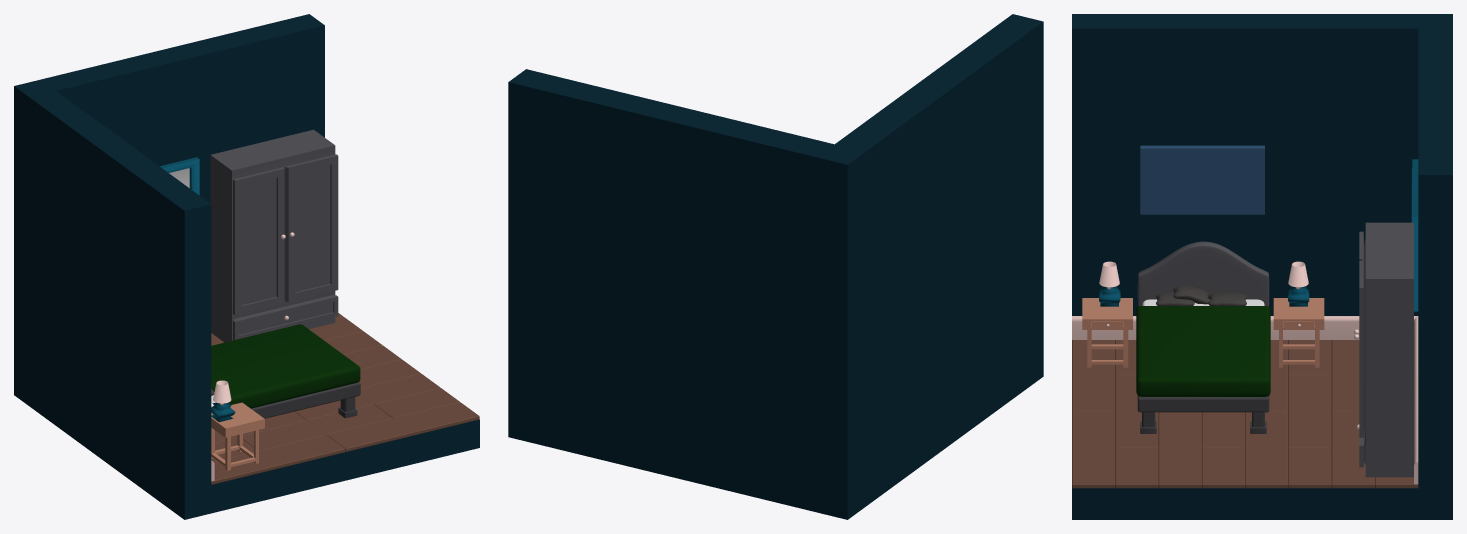
Rendered from Rasmus- Isometric Scene - Comfy and Cozy Bedroom.fbx.
The picture shows the model from 3 angles, left to right: view 1: azimuth 30°, elevation 25°; view 2: azimuth 150°, elevation 25°; view 3: azimuth 270°, elevation 25°; orthographic projection. The views are drawn at different scales.
Parts seen in each view (by area): view 1: Cube, wardrobe, floor, plaket, nightstand 2, bedfrme, window; view 2: Cube; view 3: Cube, floor, wardrobe, plaket, board, bedfame headboard, floor trim, nightstand 2, nightstand, bedfrme, window, bedfame legs (+4 smaller).
Boxes of the visible parts, left/top/right/bottom form: Cube: left=14, top=14, right=479, bottom=519; wardrobe: left=210, top=129, right=338, bottom=342; floor: left=211, top=313, right=479, bottom=484; plaket: left=211, top=324, right=360, bottom=408; nightstand 2: left=211, top=402, right=264, bottom=470; bedfrme: left=215, top=382, right=360, bottom=430; window: left=160, top=157, right=199, bottom=195; Cube: left=508, top=14, right=1043, bottom=519; Cube: left=1072, top=14, right=1452, bottom=519; floor: left=1072, top=340, right=1418, bottom=488; wardrobe: left=1359, top=222, right=1413, bottom=477; plaket: left=1136, top=306, right=1270, bottom=396; board: left=1140, top=145, right=1264, bottom=214; bedfame headboard: left=1137, top=241, right=1269, bottom=306; floor trim: left=1072, top=316, right=1418, bottom=484; nightstand 2: left=1082, top=298, right=1132, bottom=367; nightstand: left=1273, top=298, right=1324, bottom=367; bedfrme: left=1137, top=395, right=1269, bottom=412; window: left=1411, top=159, right=1418, bottom=311; bedfame legs: left=1140, top=412, right=1266, bottom=433.
Bounding box in the file's own units: 200 × 200 × 200.
